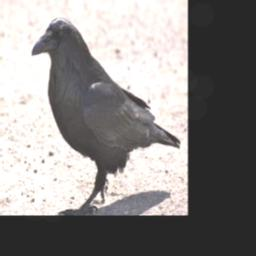Crow: (29, 15, 183, 214)
